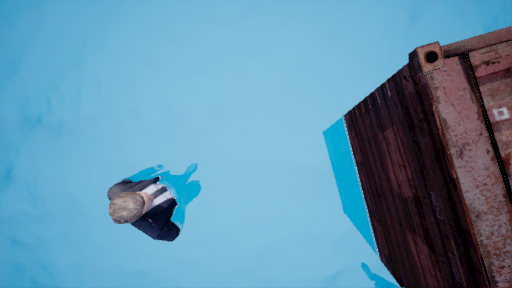person: (108, 166, 203, 242)
